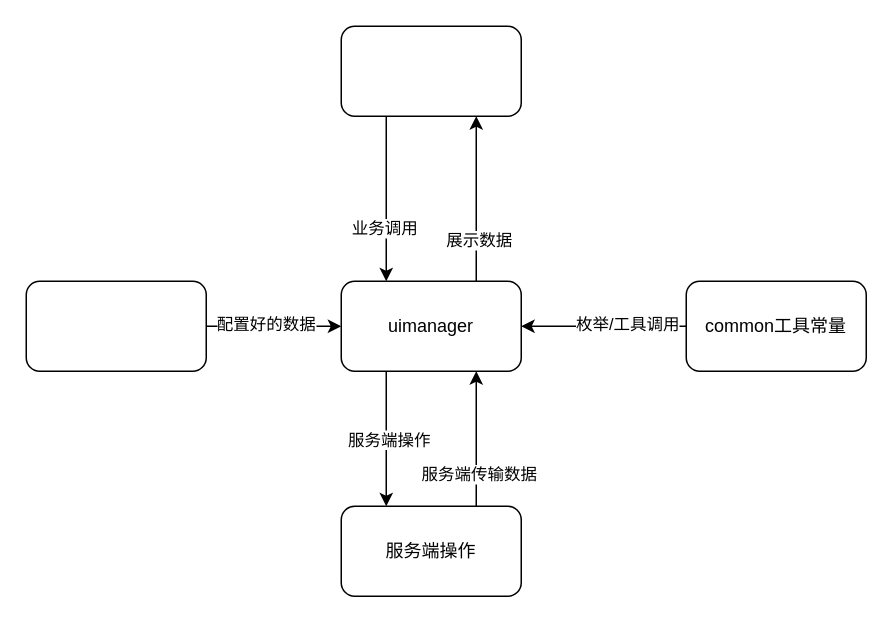
Some shapes in this 893 by 623 pixel diagram are drawn without their labels. Each missing label, with the centre of its shape:
"UI" belongs at (430,70).
"策划表数据" belongs at (115,325).
